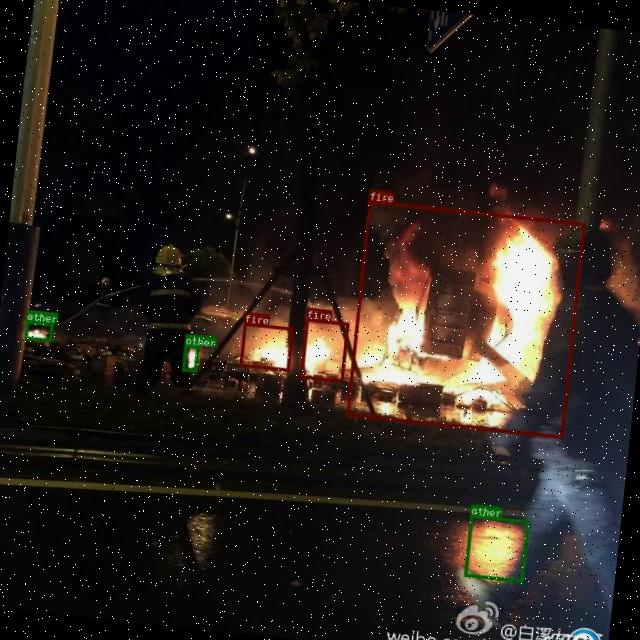fire: (346, 200, 584, 438), (298, 317, 348, 382), (238, 322, 292, 371)
